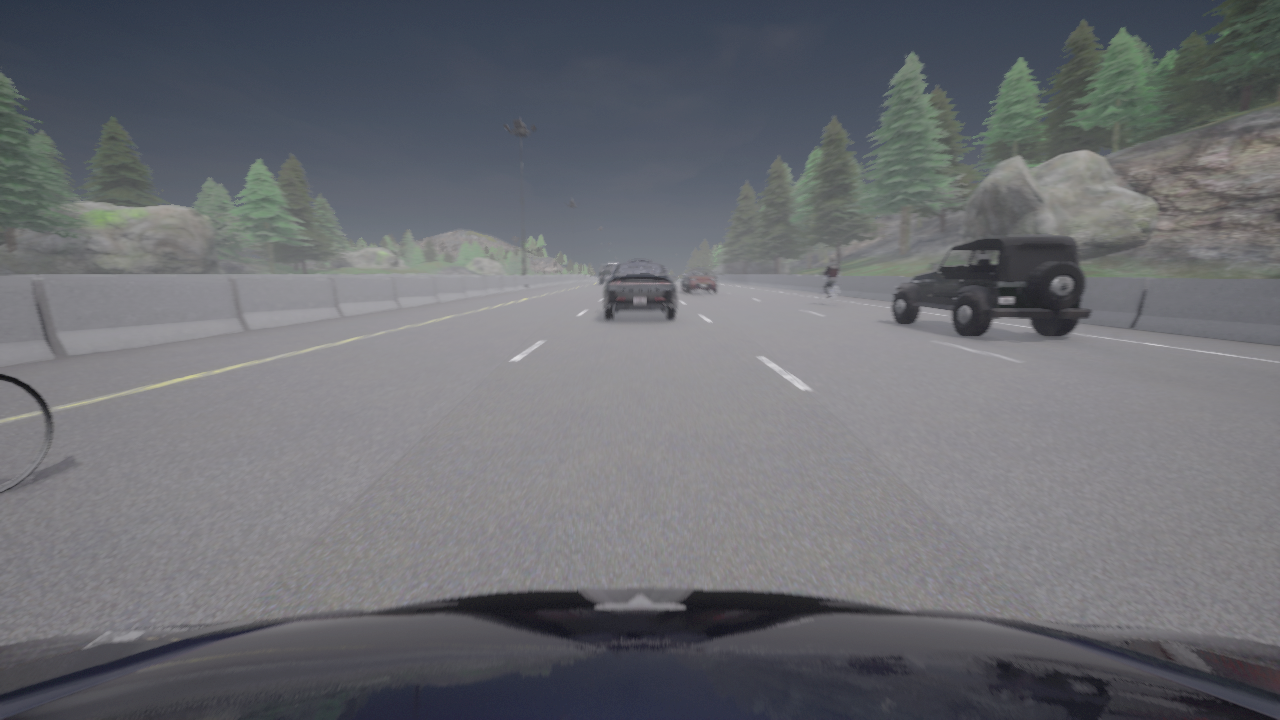cyclist: (0, 588, 1279, 719), (891, 235, 1090, 336), (603, 262, 676, 319), (682, 268, 717, 293), (819, 276, 838, 305), (598, 264, 615, 283), (628, 259, 651, 261)
